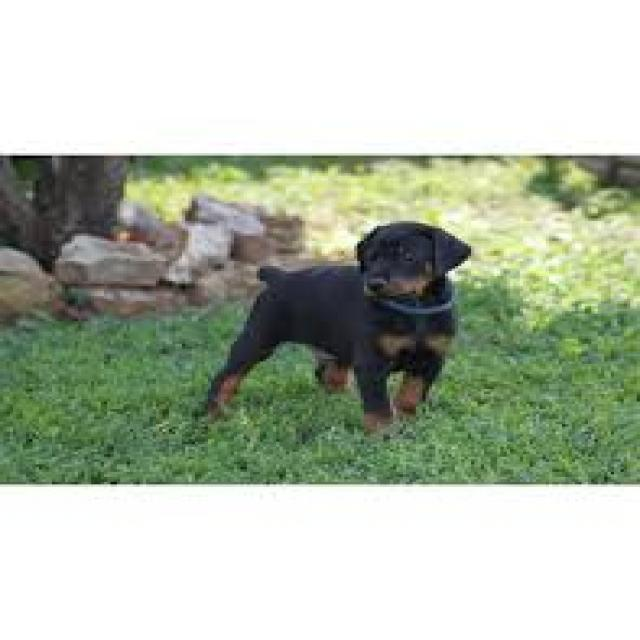Dog: (193, 216, 476, 433)
